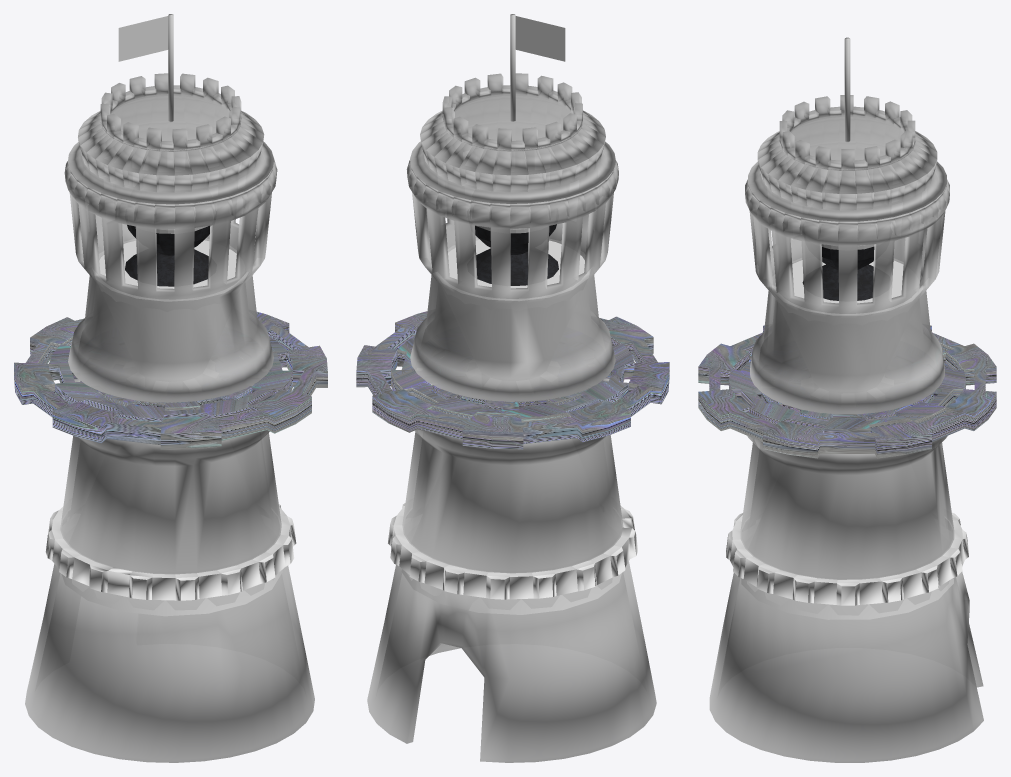
File: Faro.fbx
3 views of the same model, side by side, from view 1: azimuth 30°, elevation 25°; view 2: azimuth 150°, elevation 25°; view 3: azimuth 270°, elevation 25° (orthographic). The views are drawn at different scales.
Visible parts, largest first — view 1: Faro_exterior, Engranaje_exterior.001, Engranaje_Inferior, Engranaje_exterior.002, Engranaje_interior, Cáliz, Bandera, Engranaje_exterior, Poste; view 2: Faro_exterior, Engranaje_exterior.001, Engranaje_Inferior, Engranaje_exterior.002, Engranaje_interior, Cáliz, Bandera, Engranaje_exterior, Poste; view 3: Faro_exterior, Engranaje_exterior.001, Engranaje_Inferior, Engranaje_exterior.002, Engranaje_interior, Cáliz, Engranaje_exterior, Poste.
Part boxes in pixels (x1=…): Faro_exterior: x1=25, y1=73, x2=314, y2=762; Engranaje_exterior.001: x1=14, y1=312, x2=327, y2=449; Engranaje_Inferior: x1=45, y1=504, x2=296, y2=600; Engranaje_exterior.002: x1=49, y1=336, x2=292, y2=423; Engranaje_interior: x1=62, y1=238, x2=282, y2=615; Cáliz: x1=125, y1=224, x2=210, y2=286; Bandera: x1=118, y1=16, x2=168, y2=61; Engranaje_exterior: x1=80, y1=381, x2=252, y2=410; Poste: x1=168, y1=14, x2=173, y2=121; Faro_exterior: x1=367, y1=73, x2=656, y2=762; Engranaje_exterior.001: x1=356, y1=311, x2=669, y2=449; Engranaje_Inferior: x1=388, y1=503, x2=637, y2=599; Engranaje_exterior.002: x1=391, y1=336, x2=634, y2=422; Engranaje_interior: x1=402, y1=238, x2=621, y2=614; Cáliz: x1=475, y1=224, x2=558, y2=285; Bandera: x1=515, y1=16, x2=565, y2=61; Engranaje_exterior: x1=431, y1=380, x2=603, y2=410; Poste: x1=510, y1=14, x2=515, y2=121; Faro_exterior: x1=709, y1=95, x2=983, y2=762; Engranaje_exterior.001: x1=698, y1=325, x2=996, y2=458; Engranaje_Inferior: x1=726, y1=512, x2=968, y2=605; Engranaje_exterior.002: x1=729, y1=350, x2=965, y2=432; Engranaje_interior: x1=741, y1=258, x2=953, y2=619; Cáliz: x1=802, y1=246, x2=874, y2=300; Engranaje_exterior: x1=761, y1=392, x2=933, y2=420; Poste: x1=844, y1=37, x2=850, y2=141.
Bounding box in the file's own units: 13647 × 33561 × 13647.
